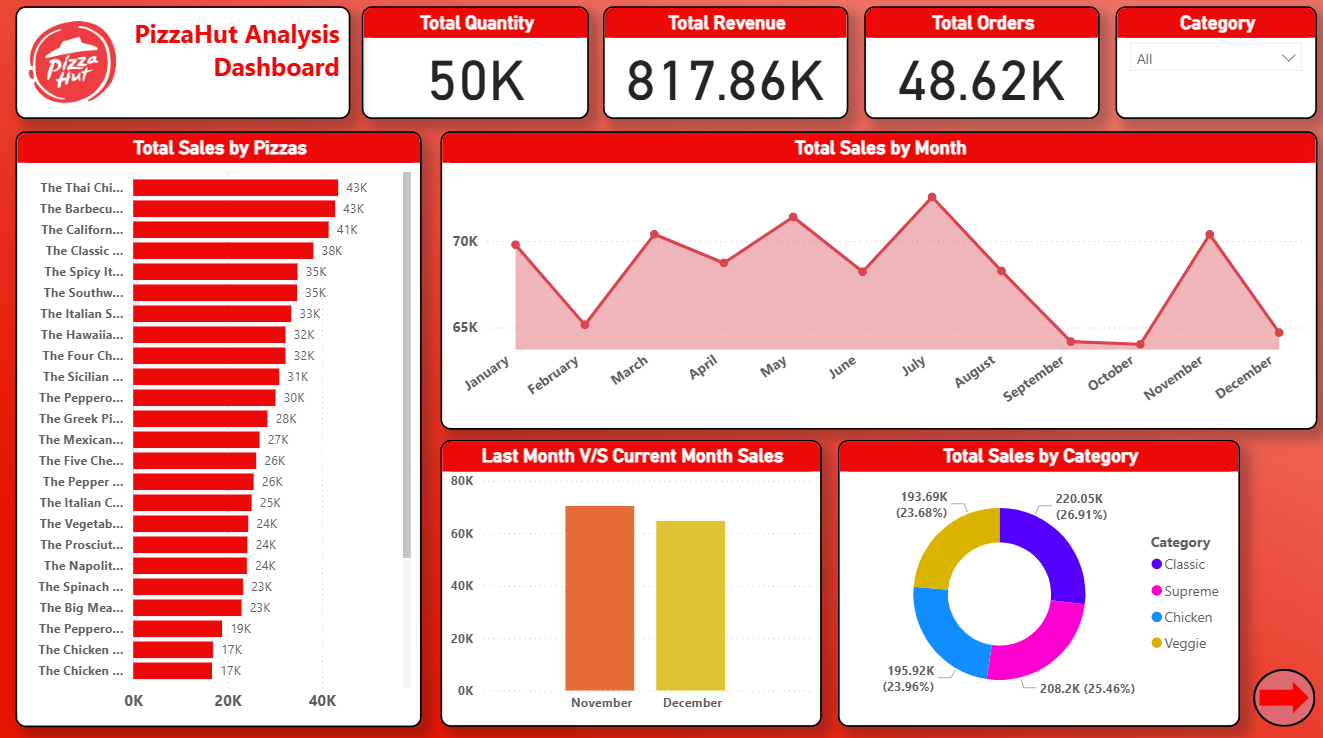

The page's visual inventory and layout, read from the dashboard file:
{"tool":"powerbi","page":{"name":"DashBoard1","canvas":[1280,720],"ordinal":0},"visuals":[{"type":"card","title":"Total Quantity","fields":{"Values":["Sum(order_details.quantity)"]},"box":[351.1,10.9,219.6,108.6],"z":0},{"type":"card","title":"Total Revenue","fields":{"Values":["order_details.Total_Revenue"]},"box":[583.9,10.9,236.5,108.6],"z":1000},{"type":"card","title":"Total Orders","fields":{"Values":["CountNonNull(order_details.order_id)"]},"box":[836.1,10.9,226.8,108.6],"z":2000},{"type":"textbox","box":[16.9,10.9,323.3,108.6],"z":3000},{"type":"barChart","title":"Total Sales by Pizzas","fields":{"Category":["pizza_types.name"],"Y":["order_details.Total_Revenue"]},"box":[16.9,131.5,392.1,575.5],"z":4000},{"type":"image","box":[16.9,10.9,109.8,108.6],"z":5000},{"type":"areaChart","title":"Total Sales by Month","fields":{"Y":["order_details.Total_Revenue"],"Category":["Custom_calendar.Date.Variation.Date Hierarchy.Month"]},"box":[426.8,131.7,846.7,288.2],"z":6000},{"type":"slicer","title":"Category","fields":{"Values":["pizza_types.category"]},"box":[1078.6,10.9,194.2,108.6],"z":8000},{"type":"shape","box":[1211.7,650.4,60.4,56.3],"z":9000},{"type":"shape","box":[1217.2,662.8,48,31.6],"z":10000},{"type":"clusteredColumnChart","title":"Last Month V/S Current Month Sales","fields":{"Category":["Custom_calendar.Date.Variation.Date Hierarchy.Month"],"Y":["order_details.Total_Revenue"]},"box":[426.8,429.5,367.8,277.2],"z":10001},{"type":"donutChart","title":"Total Sales by Category","fields":{"Category":["pizza_types.category"],"Y":["order_details.Total_Revenue"]},"box":[811,429.5,388.3,277.2],"z":10002}]}

Visuals, with their boxes in screenshot pixels (x1, y1, x2, y2), scaled from the page's 1280x720 canvas onto the 1323x738 screenshot:
"Total Quantity" card: l=363, t=11, r=590, b=122
"Total Revenue" card: l=604, t=11, r=848, b=122
"Total Orders" card: l=864, t=11, r=1099, b=122
textbox: l=17, t=11, r=352, b=122
"Total Sales by Pizzas" barChart: l=17, t=135, r=423, b=725
image: l=17, t=11, r=131, b=122
"Total Sales by Month" areaChart: l=441, t=135, r=1316, b=430
"Category" slicer: l=1115, t=11, r=1316, b=122
shape: l=1252, t=667, r=1315, b=724
shape: l=1258, t=679, r=1308, b=712
"Last Month V/S Current Month Sales" clusteredColumnChart: l=441, t=440, r=821, b=724
"Total Sales by Category" donutChart: l=838, t=440, r=1240, b=724
